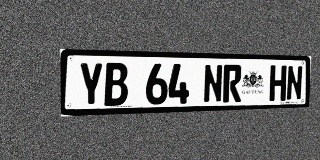4: (168, 64, 189, 104)
6: (146, 63, 168, 105)
B: (104, 63, 128, 106)
H: (269, 65, 287, 101)
N: (203, 64, 223, 103), (286, 65, 303, 101)
R: (223, 64, 242, 103)
Y: (78, 62, 103, 107)
